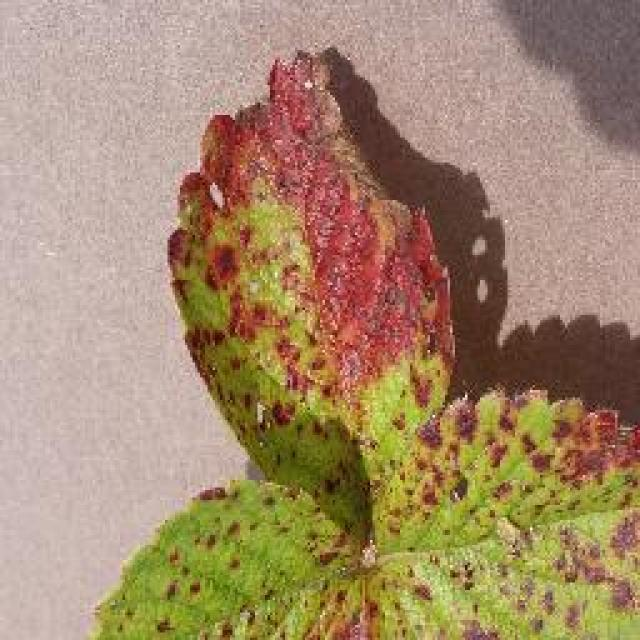Strawberry leaf scorch: (188, 50, 604, 550)
